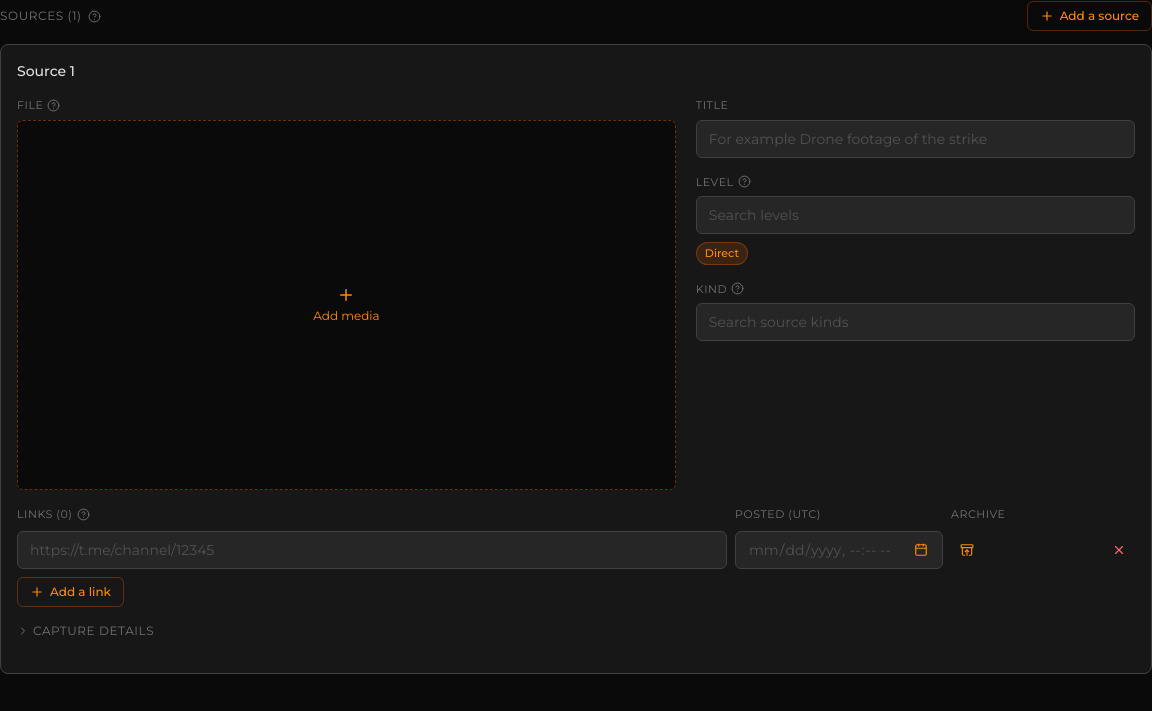
Test: SourcesField › starts with the editors it is given and adds one per click, showing it
Click the button "Add a source" at (1089, 16), box x1=1027 y1=1 x2=1151 y2=31
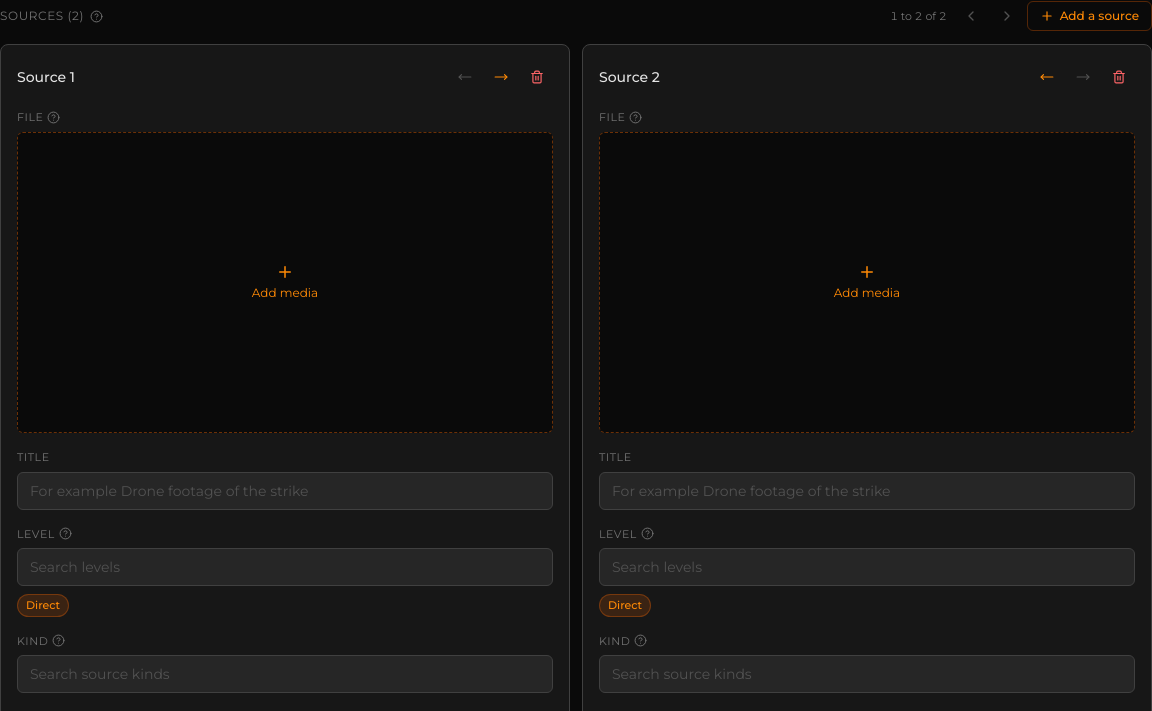
Check: the button named "Remove source 2" is shown, box x1=1103 y1=61 x2=1135 y2=93
Check: the button named "Next source" is shown, box x1=991 y1=0 x2=1023 y2=32
